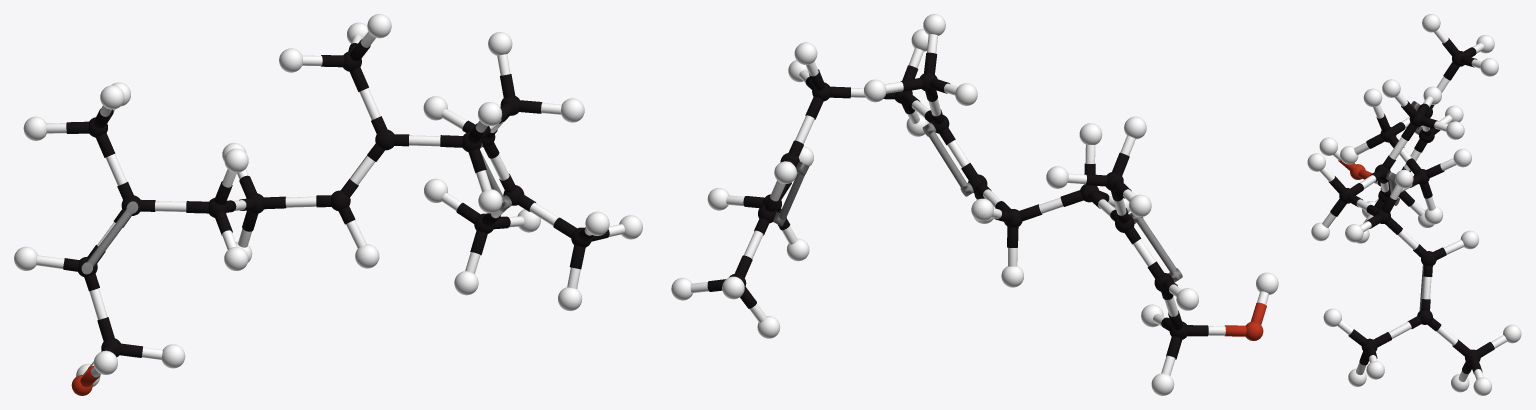
Rendered from Farnesol_opti.dae.
3 views of the same model, side by side, from view 1: azimuth 30°, elevation 25°; view 2: azimuth 150°, elevation 25°; view 3: azimuth 270°, elevation 25° (orthographic). The views are drawn at different scales.
Visible parts, largest first — view 1: Liaison_double_002; view 2: Liaison_double, Liaison_double_002, Liaison_double_001; view 3: Hydrogène_004, Hydrogène_011, Hydrogène_024, Hydrogène_003, Hydrogène_005, Hydrogène_010, Hydrogène_027, Hydrogène_008, Hydrogène_028, Hydrogène_002, Hydrogène_014, Hydrogène_001 (+11 smaller).
Boxes of the visible parts, <box> form: Liaison_double_002: <box>81,201,138,274</box>; Liaison_double: <box>922,122,973,196</box>; Liaison_double_002: <box>1129,213,1182,282</box>; Liaison_double_001: <box>773,161,809,226</box>; Hydrogène_004: <box>1446,121,1464,139</box>; Hydrogène_011: <box>1395,169,1413,188</box>; Hydrogène_024: <box>1480,58,1498,76</box>; Hydrogène_003: <box>1382,79,1400,97</box>; Hydrogène_005: <box>1453,148,1471,167</box>; Hydrogène_010: <box>1345,224,1363,242</box>; Hydrogène_027: <box>1366,361,1384,379</box>; Hydrogène_008: <box>1319,137,1337,155</box>; Hydrogène_028: <box>1307,153,1325,171</box>; Hydrogène_002: <box>1363,88,1382,106</box>; Hydrogène_014: <box>1473,377,1491,395</box>; Hydrogène_001: <box>1422,14,1440,32</box>.
Size of the model in its own units: 11.82 by 4.96 by 6.71.
